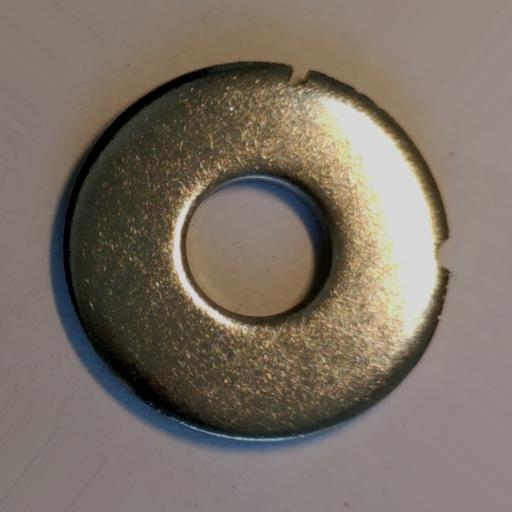burr: (433, 236, 454, 272), (286, 65, 312, 87)
